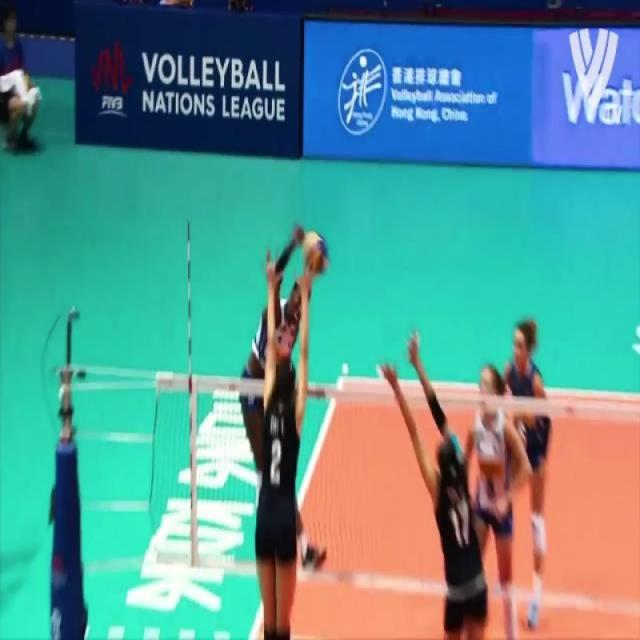volleyball: (300, 226, 330, 274)
